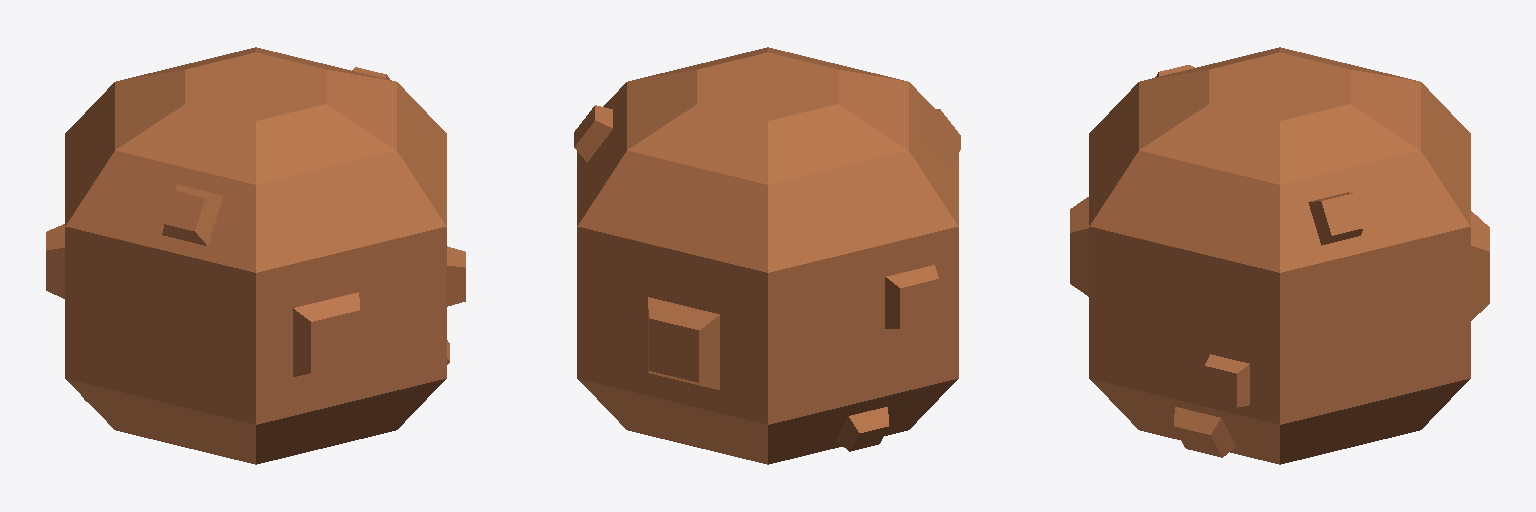
The model's file is meteorFull.obj.
3 renders of one model, left to right at view 1: azimuth 30°, elevation 25°; view 2: azimuth 150°, elevation 25°; view 3: azimuth 270°, elevation 25°, orthographic.
Parts seen in each view (by area): view 1: meteorFull; view 2: meteorFull; view 3: meteorFull.
Part boxes in pixels (left/top/right/bottom): meteorFull: left=46, top=47, right=465, bottom=464; meteorFull: left=574, top=47, right=960, bottom=464; meteorFull: left=1070, top=47, right=1489, bottom=464.
Bounding box in the file's own units: 11.55 × 9.8 × 11.